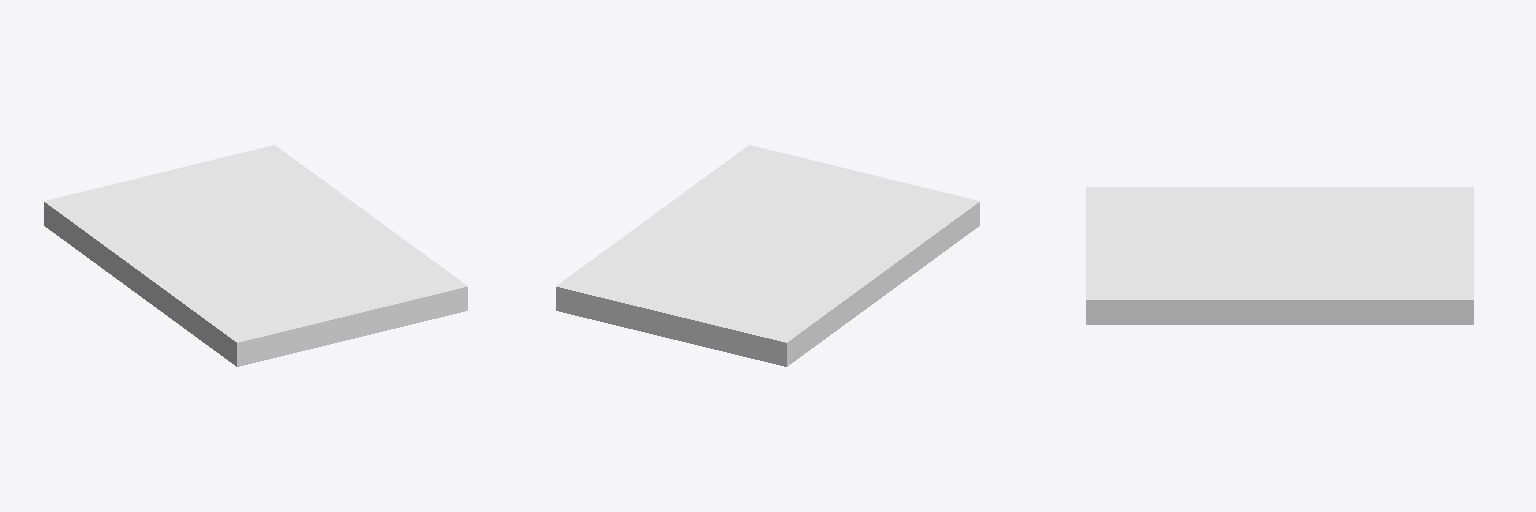
The model's file is parkingspot.obj.
The picture shows the model from 3 angles: view 1: azimuth 30°, elevation 25°; view 2: azimuth 150°, elevation 25°; view 3: azimuth 270°, elevation 25°; orthographic projection.
Visible parts, largest first — view 1: object 1; view 2: object 1; view 3: object 1.
Part boxes in pixels (x1,y1,x2,y2): object 1: (44,145,467,366); object 1: (556,145,979,366); object 1: (1086,187,1473,324).
Size of the model in its own units: 4 by 0.4 by 5.8.